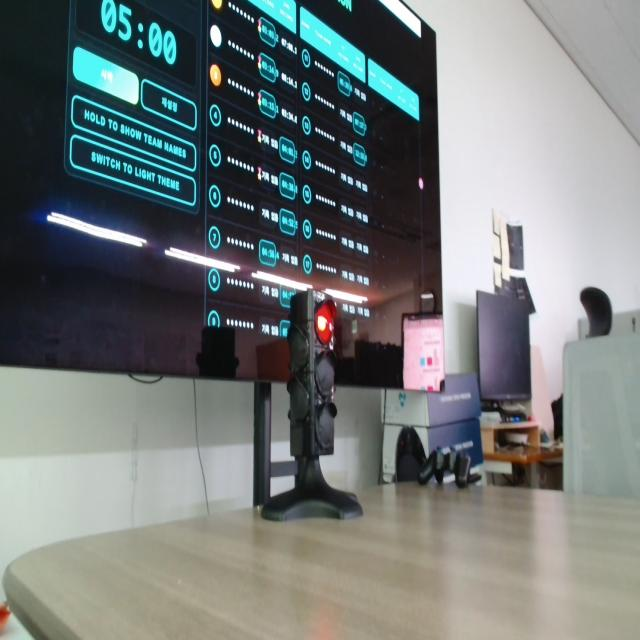red_light: (316, 300, 336, 344)
